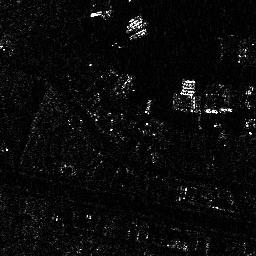ship: (127, 27, 150, 40)
